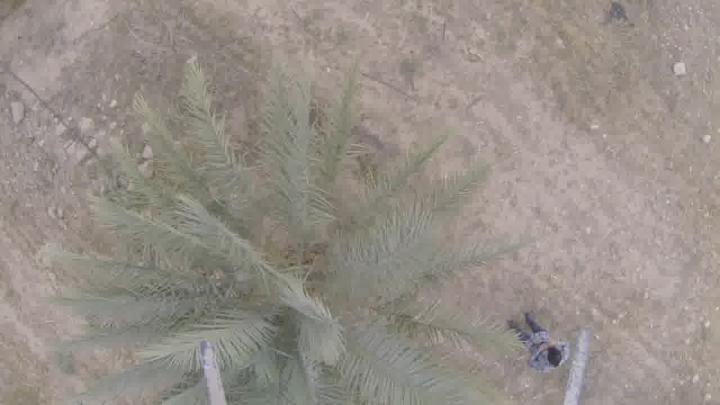Date-Palm-Crown: (158, 167, 398, 405)
